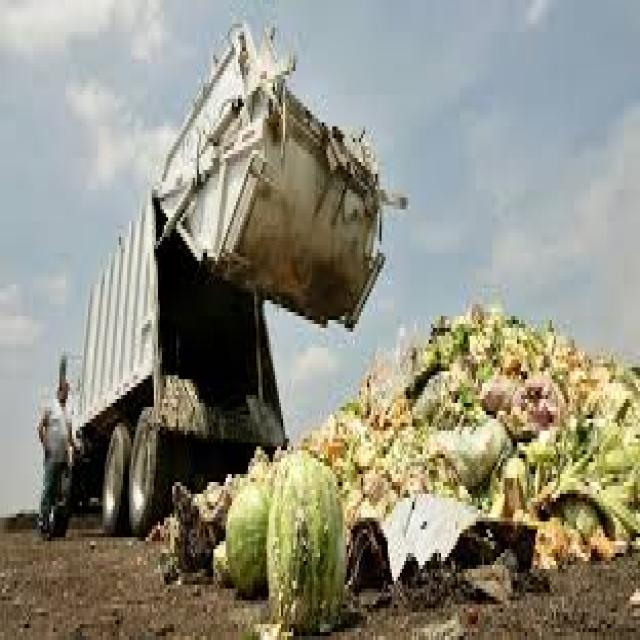food_waste: (344, 388, 627, 527), (405, 345, 633, 515), (231, 475, 342, 625)
